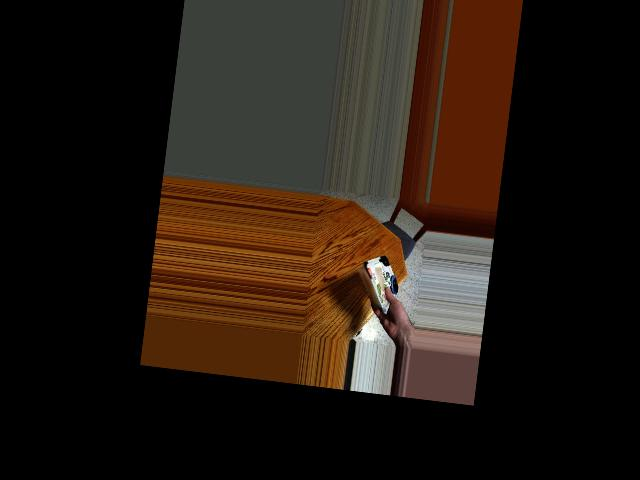cheese: (350, 254, 409, 306)
